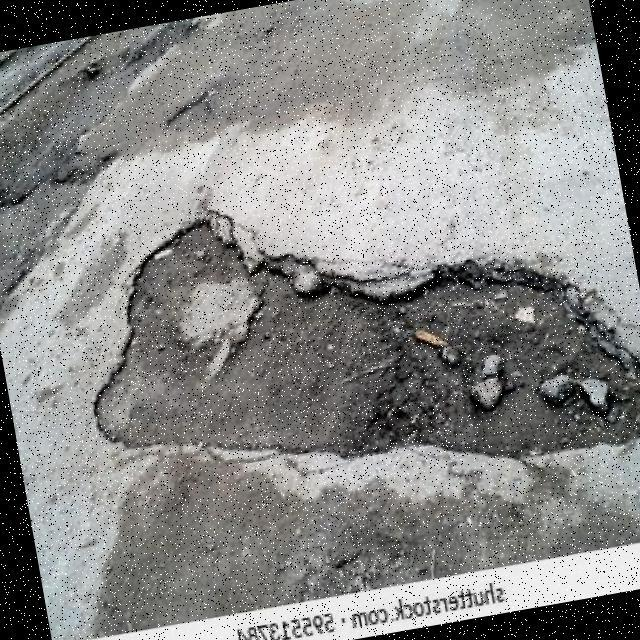Pothole: (92, 214, 640, 461)
